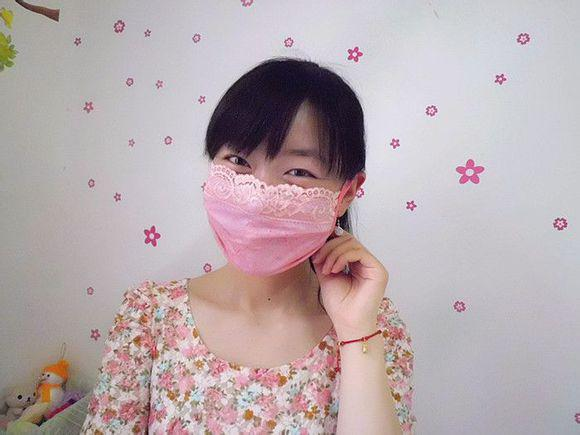OK: (205, 136, 335, 274)
